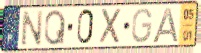0: (76, 8, 95, 46)
A: (151, 6, 181, 44)
G: (131, 7, 154, 45)
N: (20, 9, 44, 48)
Q: (44, 9, 67, 47)
X: (99, 7, 124, 46)
